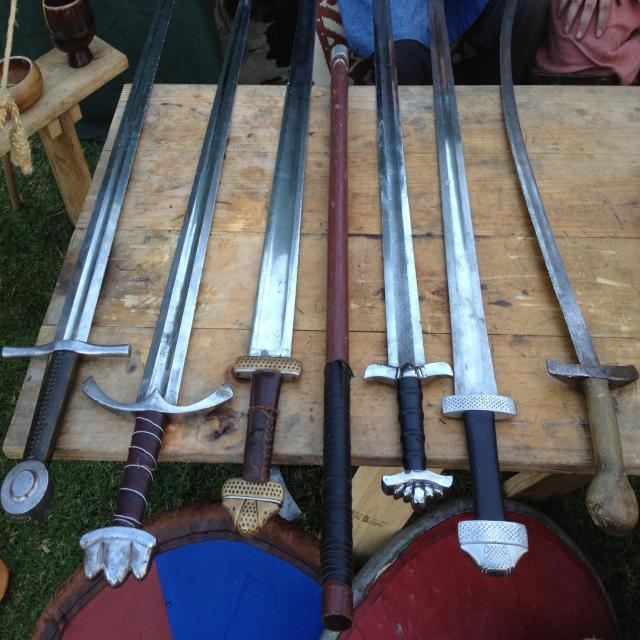cutlass: (502, 1, 640, 534)
sword: (81, 1, 257, 589), (1, 1, 182, 518), (426, 1, 531, 576), (220, 1, 320, 537), (363, 1, 454, 507)
